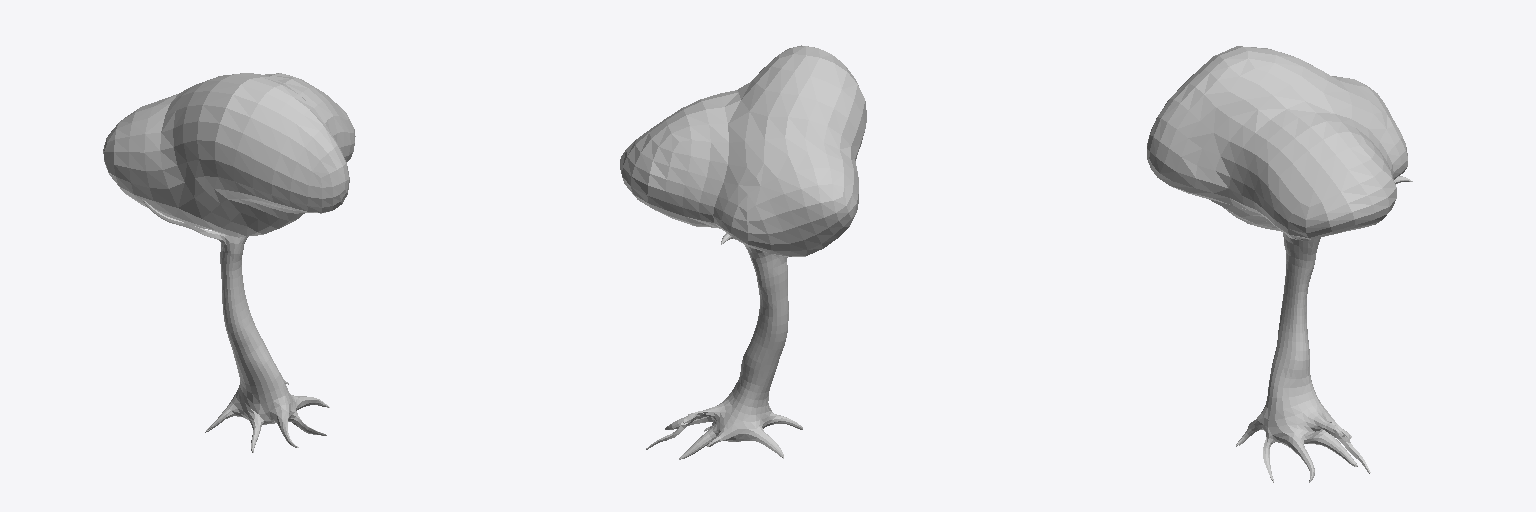
Rendered from arbolcopa.obj.
3 views of the same model, side by side, from view 1: azimuth 30°, elevation 25°; view 2: azimuth 150°, elevation 25°; view 3: azimuth 270°, elevation 25° (orthographic).
Visible parts, largest first — view 1: PM3D_Sphere3D1, PM3D_Cylinder3D1; view 2: PM3D_Sphere3D1, PM3D_Cylinder3D1; view 3: PM3D_Sphere3D1, PM3D_Cylinder3D1.
Part boxes in pixels (x1,y1,x2,y2): PM3D_Sphere3D1: (103, 73, 355, 237); PM3D_Cylinder3D1: (142, 199, 329, 452); PM3D_Sphere3D1: (620, 45, 866, 256); PM3D_Cylinder3D1: (646, 233, 802, 459); PM3D_Sphere3D1: (1147, 46, 1407, 239); PM3D_Cylinder3D1: (1236, 176, 1412, 482).
Bounding box in the file's own units: 7.16 × 11.44 × 7.1.